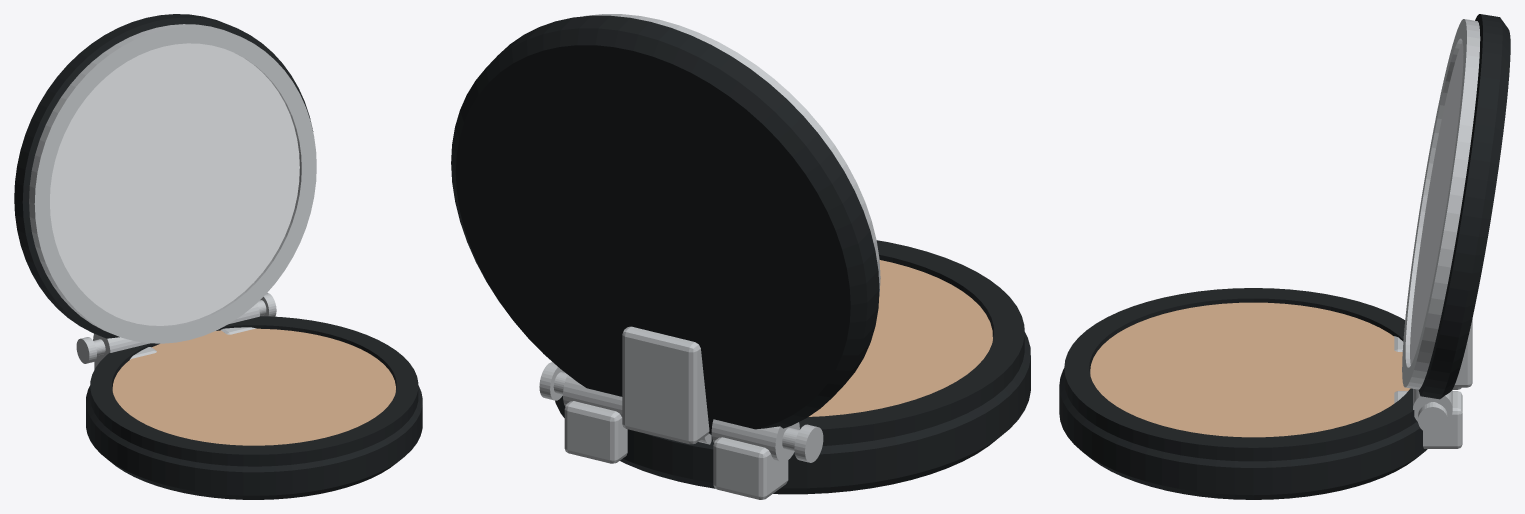
File: A-NEW-20261026-HINGED-POWDER-COMPACT-001_LOD1_R3.glb
The picture shows the model from 3 angles, left to right: view 1: azimuth 30°, elevation 25°; view 2: azimuth 150°, elevation 25°; view 3: azimuth 270°, elevation 25°; orthographic projection. The views are drawn at different scales.
Parts seen in each view (by area): view 1: inset reflective mirror, inset powder pan, mirror surrounding rim, raised rounded powder rim, compact base, round lid backing, base hinge knuckle, hinge pin end cap; view 2: round lid backing, compact base, inset powder pan, raised rounded powder rim, lid hinge leaf, base hinge leaf, base hinge leaf.001, mirror surrounding rim, base hinge knuckle, base hinge knuckle.001, hinge pin end cap; view 3: inset powder pan, raised rounded powder rim, compact base, round lid backing, mirror surrounding rim, inset reflective mirror, base hinge leaf.001, hinge pin end cap.001, lid hinge leaf, base hinge knuckle.001.
Boxes of the visible parts, x1,y1,x2,y2 form: inset reflective mirror: (50, 43, 299, 325); inset powder pan: (112, 328, 395, 445); mirror surrounding rim: (29, 24, 316, 343); raised rounded powder rim: (90, 316, 418, 466); compact base: (86, 385, 422, 499); round lid backing: (14, 14, 313, 338); base hinge knuckle: (93, 333, 149, 360); hinge pin end cap: (76, 337, 96, 363); round lid backing: (451, 15, 879, 434); compact base: (555, 332, 1030, 494); inset powder pan: (809, 260, 992, 416); raised rounded powder rim: (711, 240, 1024, 445); lid hinge leaf: (622, 326, 709, 444); base hinge leaf: (713, 437, 788, 499); base hinge leaf.001: (564, 401, 627, 463); mirror surrounding rim: (584, 14, 880, 297); base hinge knuckle: (711, 419, 799, 462); base hinge knuckle.001: (563, 375, 622, 416); hinge pin end cap: (794, 424, 823, 462); inset powder pan: (1090, 302, 1410, 437); raised rounded powder rim: (1064, 288, 1417, 461); compact base: (1059, 368, 1427, 499); round lid backing: (1418, 14, 1510, 399); mirror surrounding rim: (1402, 19, 1480, 389); inset reflective mirror: (1410, 42, 1463, 364); base hinge leaf.001: (1394, 391, 1462, 448); hinge pin end cap.001: (1418, 403, 1447, 433); lid hinge leaf: (1453, 318, 1472, 387); base hinge knuckle.001: (1413, 389, 1452, 421).
Bounding box in the file's own units: 0.078 × 0.0874 × 0.0906.
